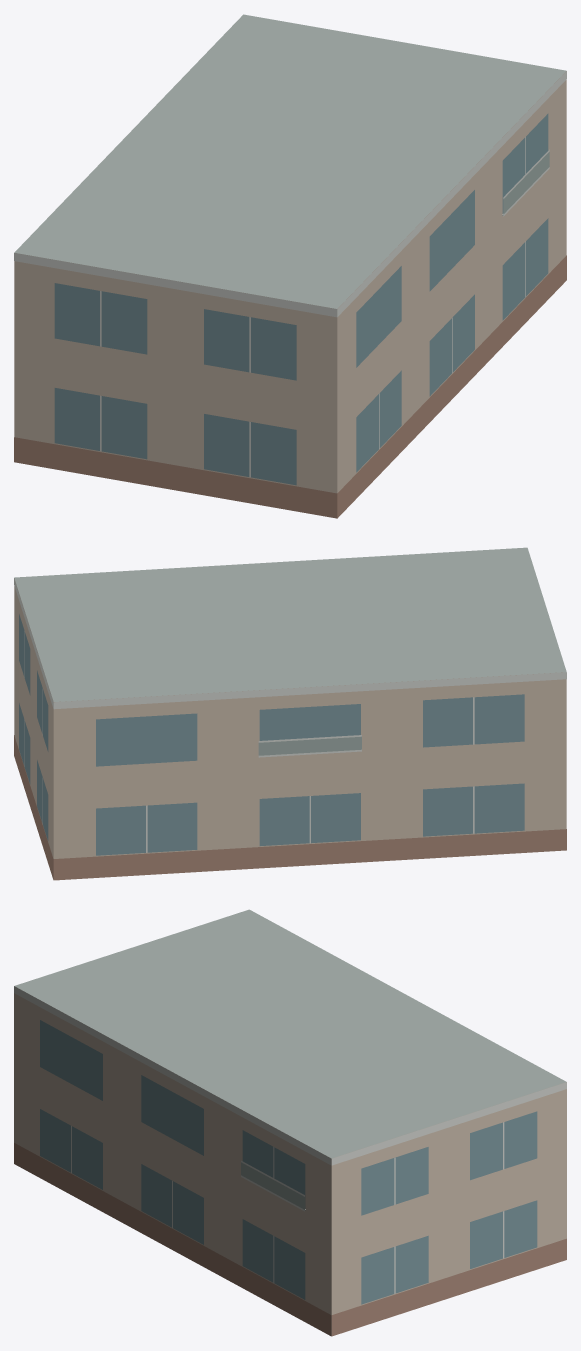
The model's file is survey-upis-32929237.glb.
3 views of the same model, one above another, from view 1: azimuth 30°, elevation 25°; view 2: azimuth 150°, elevation 25°; view 3: azimuth 270°, elevation 25° (orthographic). The views are drawn at different scales.
Parts seen in each view (by area): view 1: survey-upis-32929237.tmp; view 2: survey-upis-32929237.tmp; view 3: survey-upis-32929237.tmp.
Boxes of the visible parts, x1,y1,x2,y2 form: survey-upis-32929237.tmp: (14,14,566,518); survey-upis-32929237.tmp: (14,547,566,880); survey-upis-32929237.tmp: (14,909,566,1336).
Bounding box in the file's own units: 18.33 × 6.1 × 17.18.
